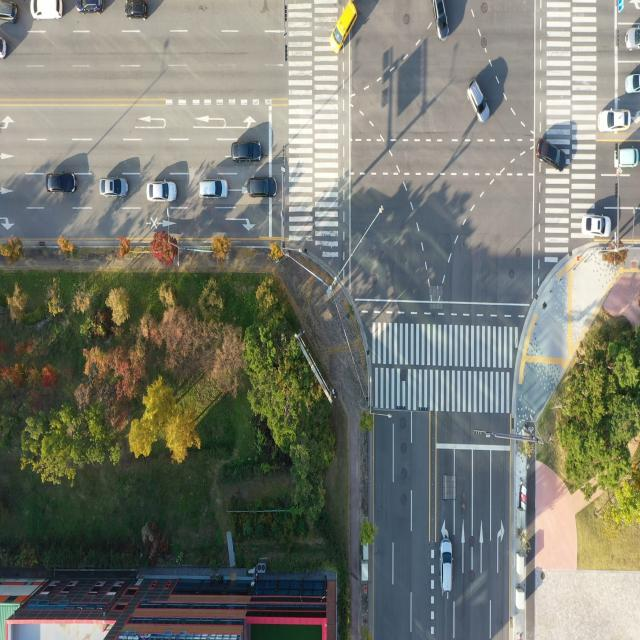car: (536, 134, 566, 177), (332, 1, 358, 50), (579, 208, 612, 238), (468, 80, 489, 125), (27, 0, 67, 22), (431, 0, 451, 43), (598, 106, 628, 134), (198, 175, 230, 200), (231, 140, 262, 164), (441, 540, 455, 593), (249, 176, 278, 199), (47, 173, 77, 195), (148, 181, 178, 203), (125, 0, 150, 26), (99, 178, 127, 198), (611, 147, 640, 164), (74, 0, 104, 16), (625, 75, 640, 106), (0, 0, 19, 24), (622, 28, 640, 53), (0, 29, 10, 58)
